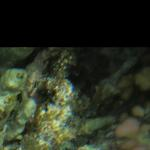dead: (1, 46, 146, 148)
